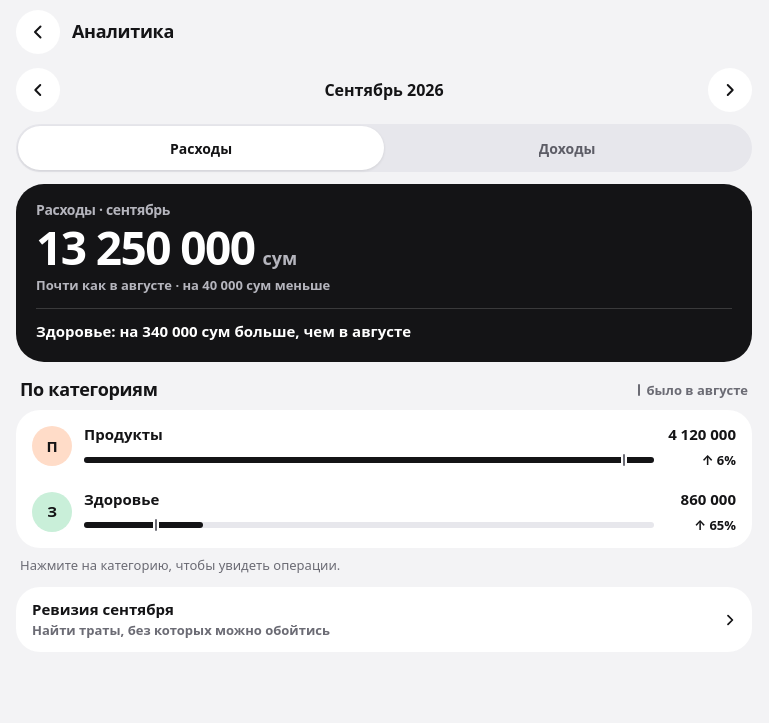
Test: Analytics: expenses of the current month (board «Аналитика · расходы») › forward to the current month: the address loses its month, the stepper names it while it loads
The image size is (769, 723).
Click the button named "Следующий месяц".
click(730, 90)  # box [708,68,752,112]
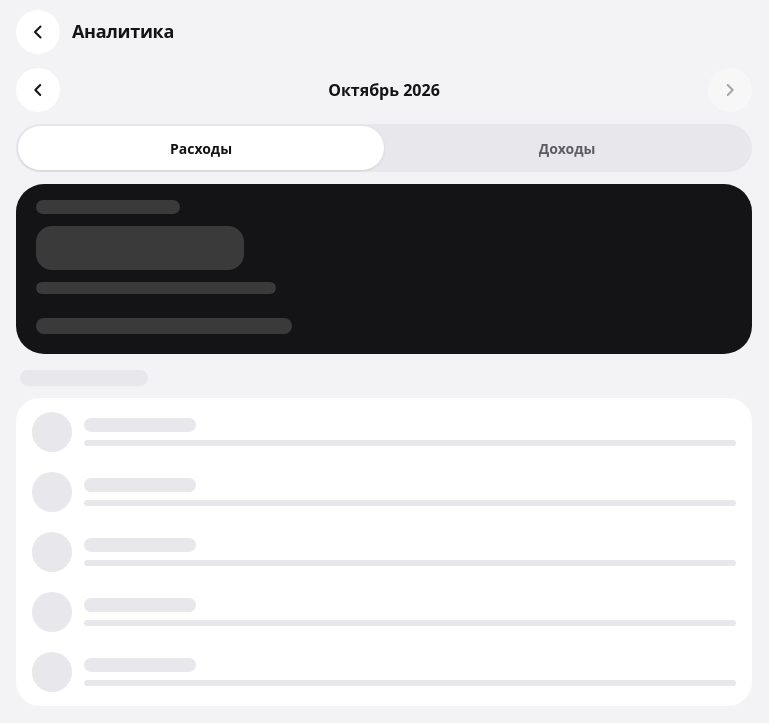
Check: the text "Октябрь 2026" is shown, box [328,79,440,101]
Check: the text "Расходы · сентябрь" is gone
